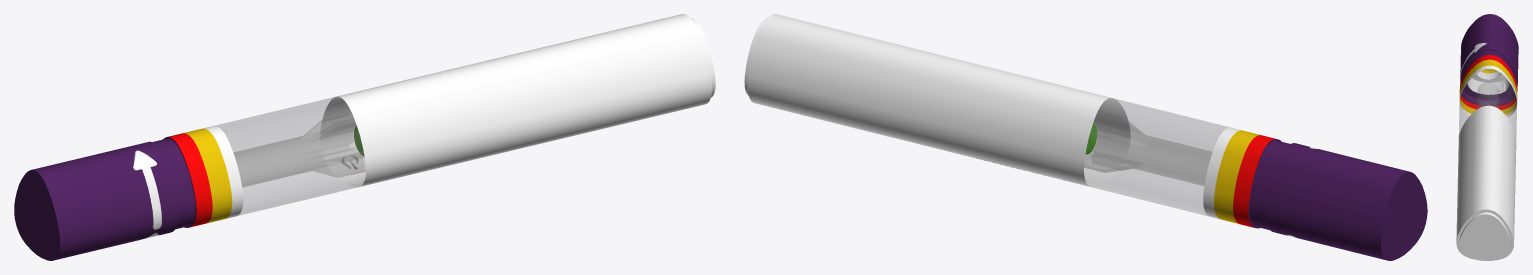
The model's file is CosentyxS4.gltf.
3 views of the same model, side by side, from view 1: azimuth 30°, elevation 25°; view 2: azimuth 150°, elevation 25°; view 3: azimuth 270°, elevation 25° (orthographic). The views are drawn at different scales.
Visible parts, largest first — view 1: cuerpo, tapa, Group001; view 2: cuerpo, tapa, Group001; view 3: cuerpo, Group001, tapa, pico.
Boxes of the visible parts, box(x1,y1,x2,y2) form: cuerpo: box(152, 14, 712, 229); tapa: box(14, 141, 178, 260); Group001: box(233, 18, 715, 187); cuerpo: box(747, 14, 1290, 229); tapa: box(1266, 143, 1427, 260); Group001: box(744, 17, 1212, 185); cuerpo: box(1456, 50, 1517, 260); Group001: box(1459, 82, 1510, 260); tapa: box(1460, 14, 1518, 99); pico: box(1476, 69, 1501, 79).
Size of the model in its own units: 3.25 by 0.3949 by 0.4328.
Materials: 9 (3 with a texture image).
